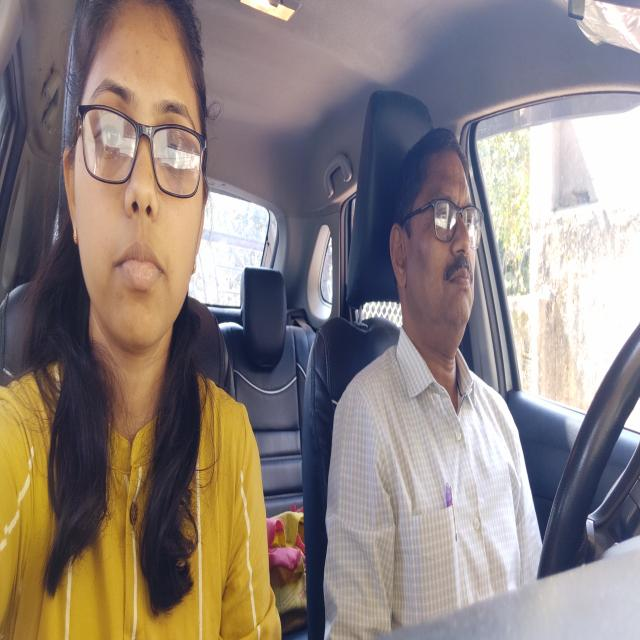person: (55, 0, 210, 354), (392, 140, 484, 338)
